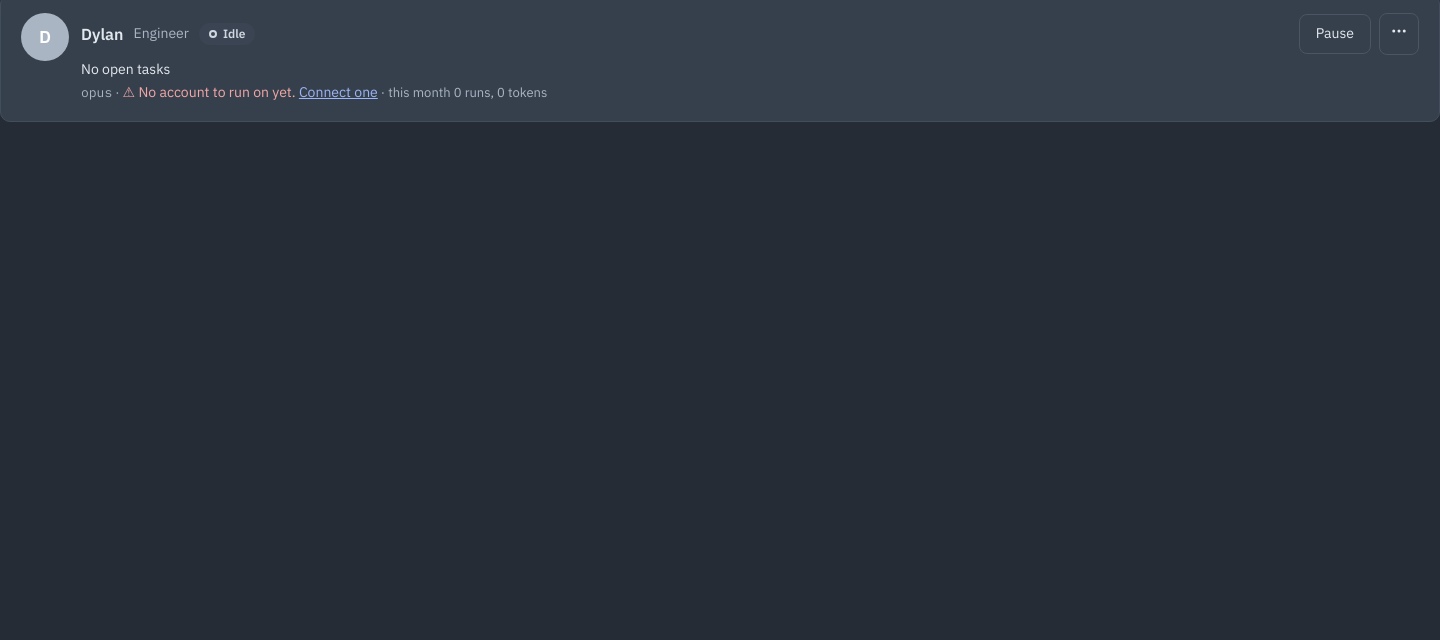
agent working hours (BOS-2200) › sends null when it stays off, and refuses to save with no day chosen
Later steps or results of the test are not shown.
Click the button "Dylan". click: (102, 34)
box: left=81, top=18, right=124, bottom=50
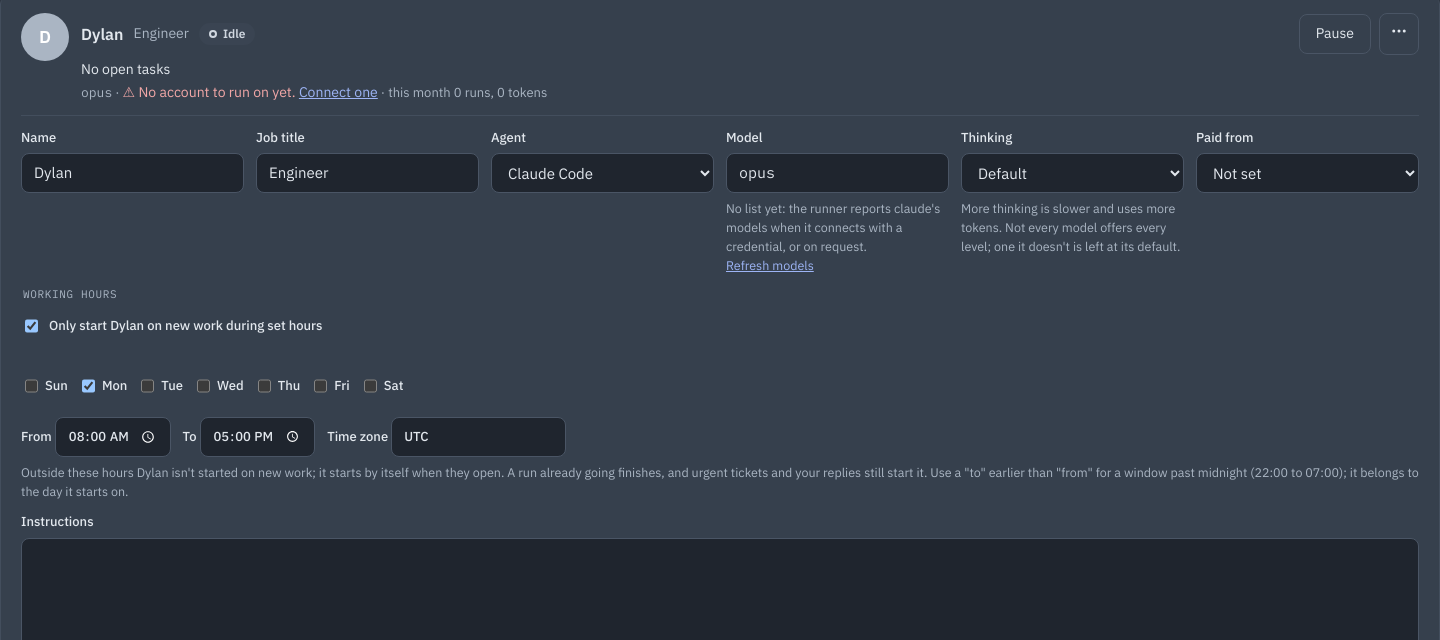
Expected: the checkbox labelled "Only start Dylan on new work during set hours" is checked, left=25, top=306, right=38, bottom=346
Click the checkbox labelled "Mon". click: (88, 386)
box: left=82, top=366, right=95, bottom=406
(page scrolled)
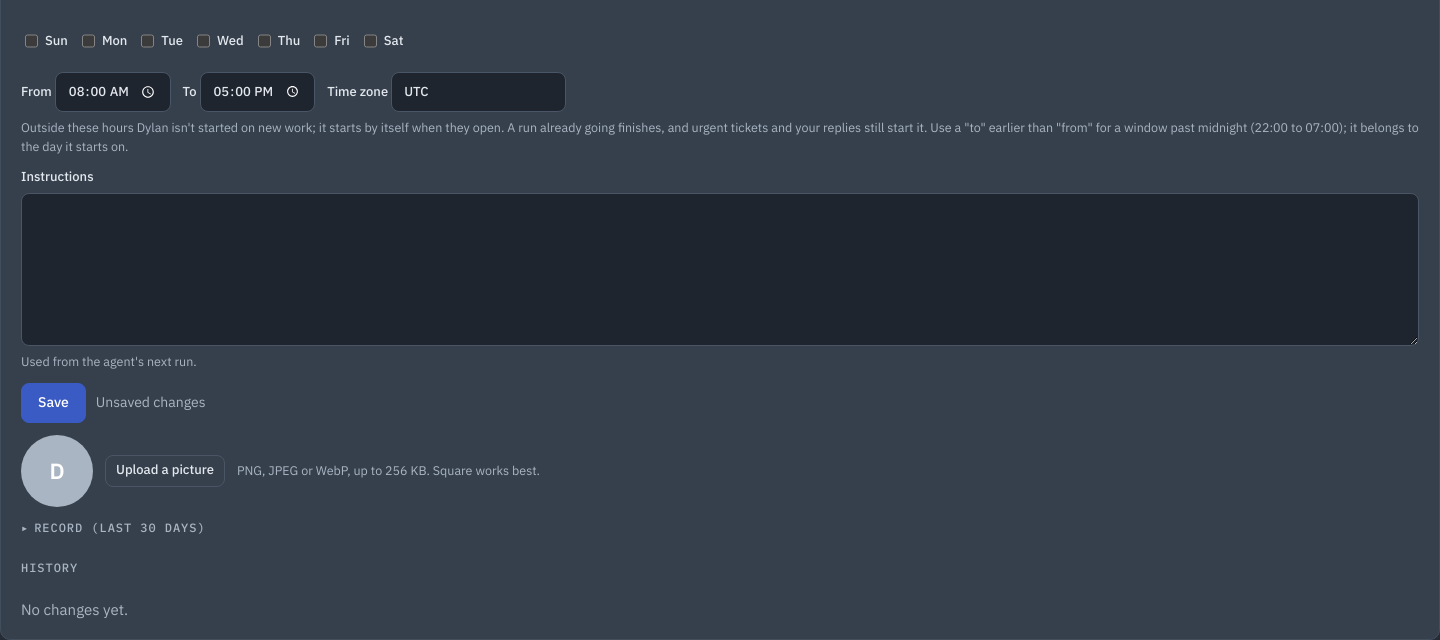
Click the button "Save". click: (53, 403)
box: left=21, top=383, right=86, bottom=423
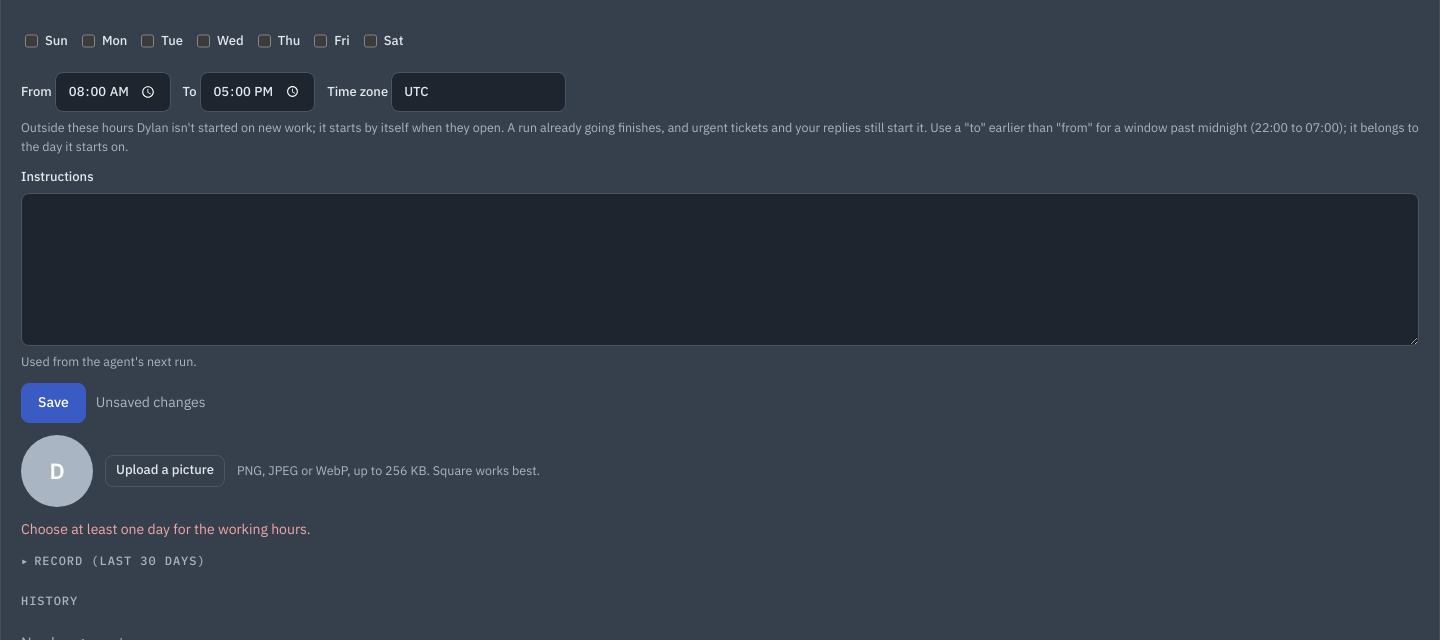
Expected: the text "Choose at least one day for the working hours." is shown, left=21, top=520, right=311, bottom=538
